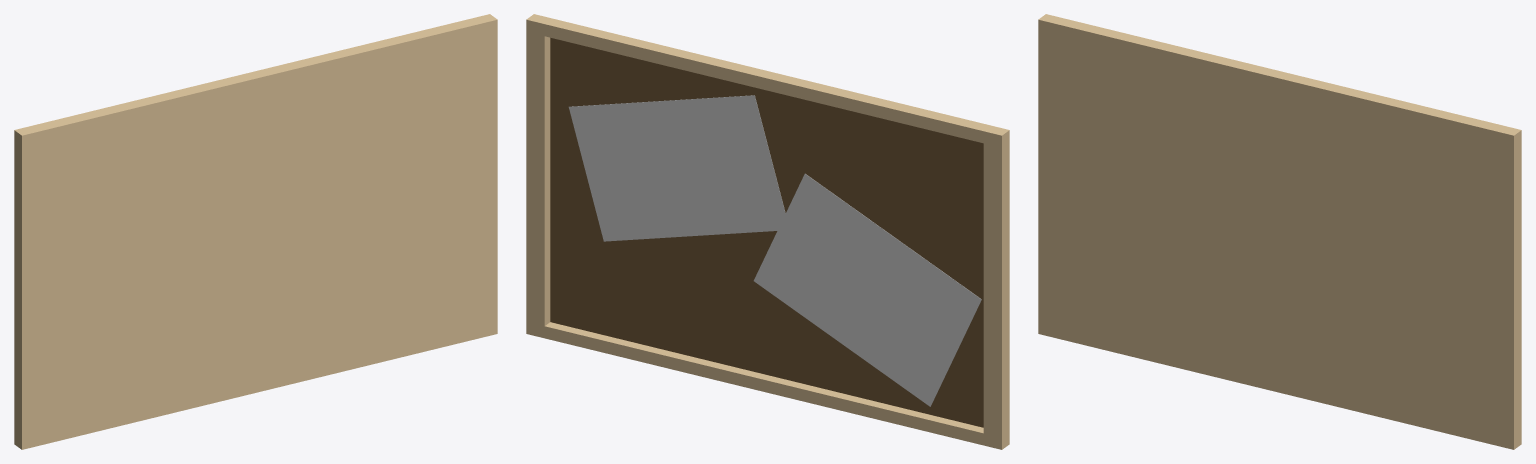
The model's file is tablon.fbx.
The picture shows the model from 3 angles, left to right: view 1: azimuth 30°, elevation 25°; view 2: azimuth 150°, elevation 25°; view 3: azimuth 330°, elevation 25°; orthographic projection.
Parts seen in each view (by area): view 1: Cube; view 2: Cube, Cube.001, Cube.002; view 3: Cube.
Boxes of the visible parts, x1=… form: Cube: x1=14, y1=14, x2=497, y2=449; Cube: x1=526, y1=14, x2=1009, y2=449; Cube.001: x1=568, y1=95, x2=789, y2=241; Cube.002: x1=753, y1=173, x2=981, y2=406; Cube: x1=1038, y1=14, x2=1521, y2=449.
Size of the model in its own units: 491 by 310 by 13.82.
